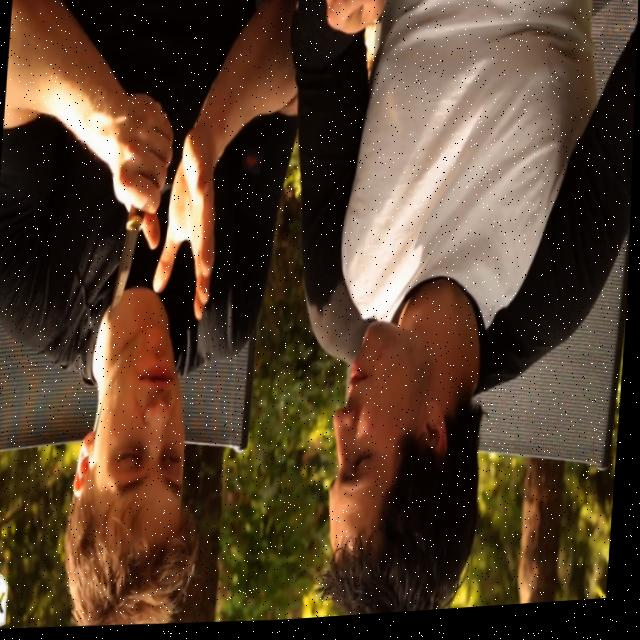knife: (107, 209, 153, 316)
